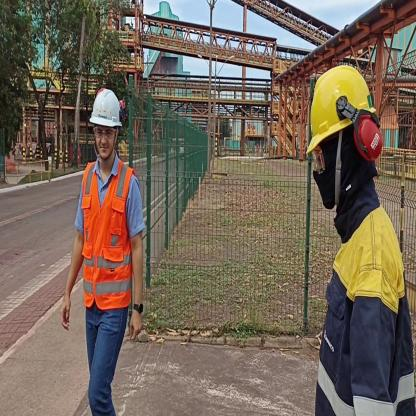Balaclava: (314, 133, 380, 218)
C_eletrica: (307, 222, 416, 416)
Capacete: (303, 62, 381, 132), (88, 85, 122, 128)
colete: (84, 165, 134, 304)
